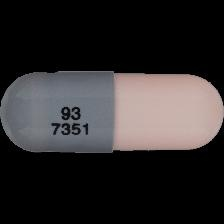54868-6086: (0, 0, 224, 224)
